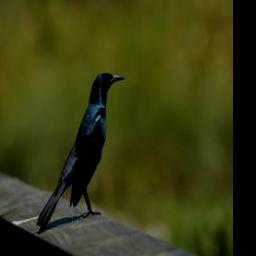Crow: (34, 70, 124, 233)
